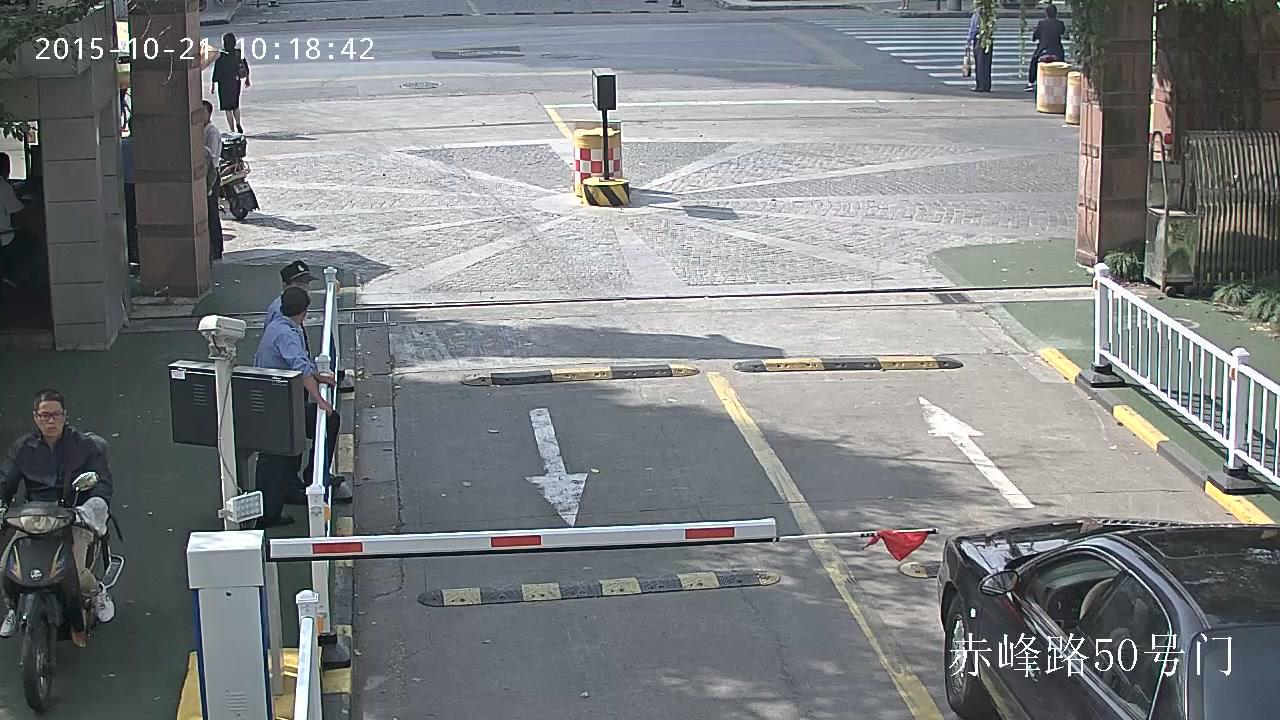face: (36, 401, 64, 436), (288, 276, 309, 291), (202, 104, 207, 119), (220, 35, 225, 47), (7, 159, 10, 174)
